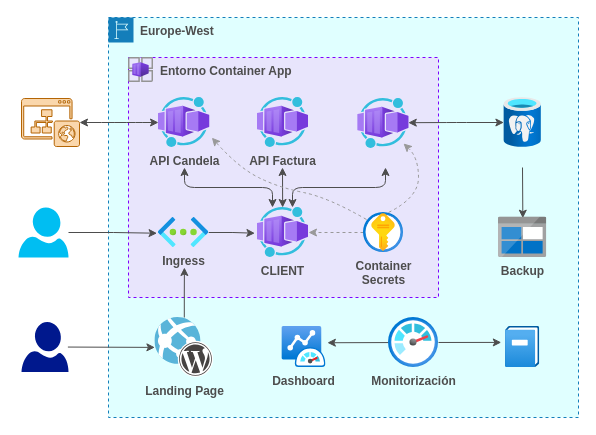
Image size: 596x435. Some labels were removed from this diagram. Each missing label, with the centre of its shape:
BBDD: [522,122]
Candela: [50,122]
Customer: [44,347]
Logs: [522,346]
SERVER: [383,123]
Usuario: [43,232]
